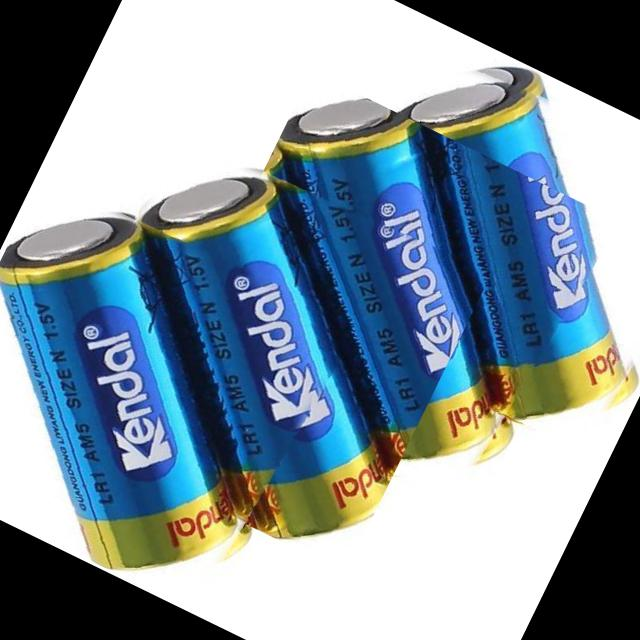Hazard: (32, 119, 490, 572), (163, 70, 619, 522), (0, 168, 359, 621), (295, 28, 640, 461)
